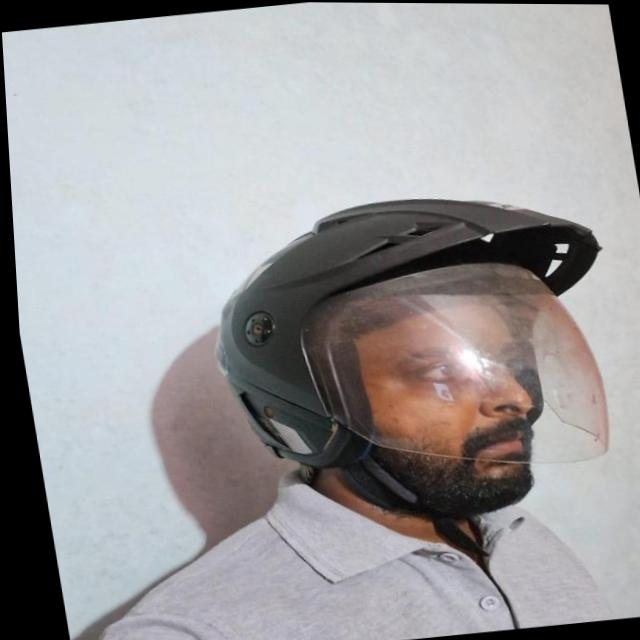helmet: (186, 175, 640, 580)
